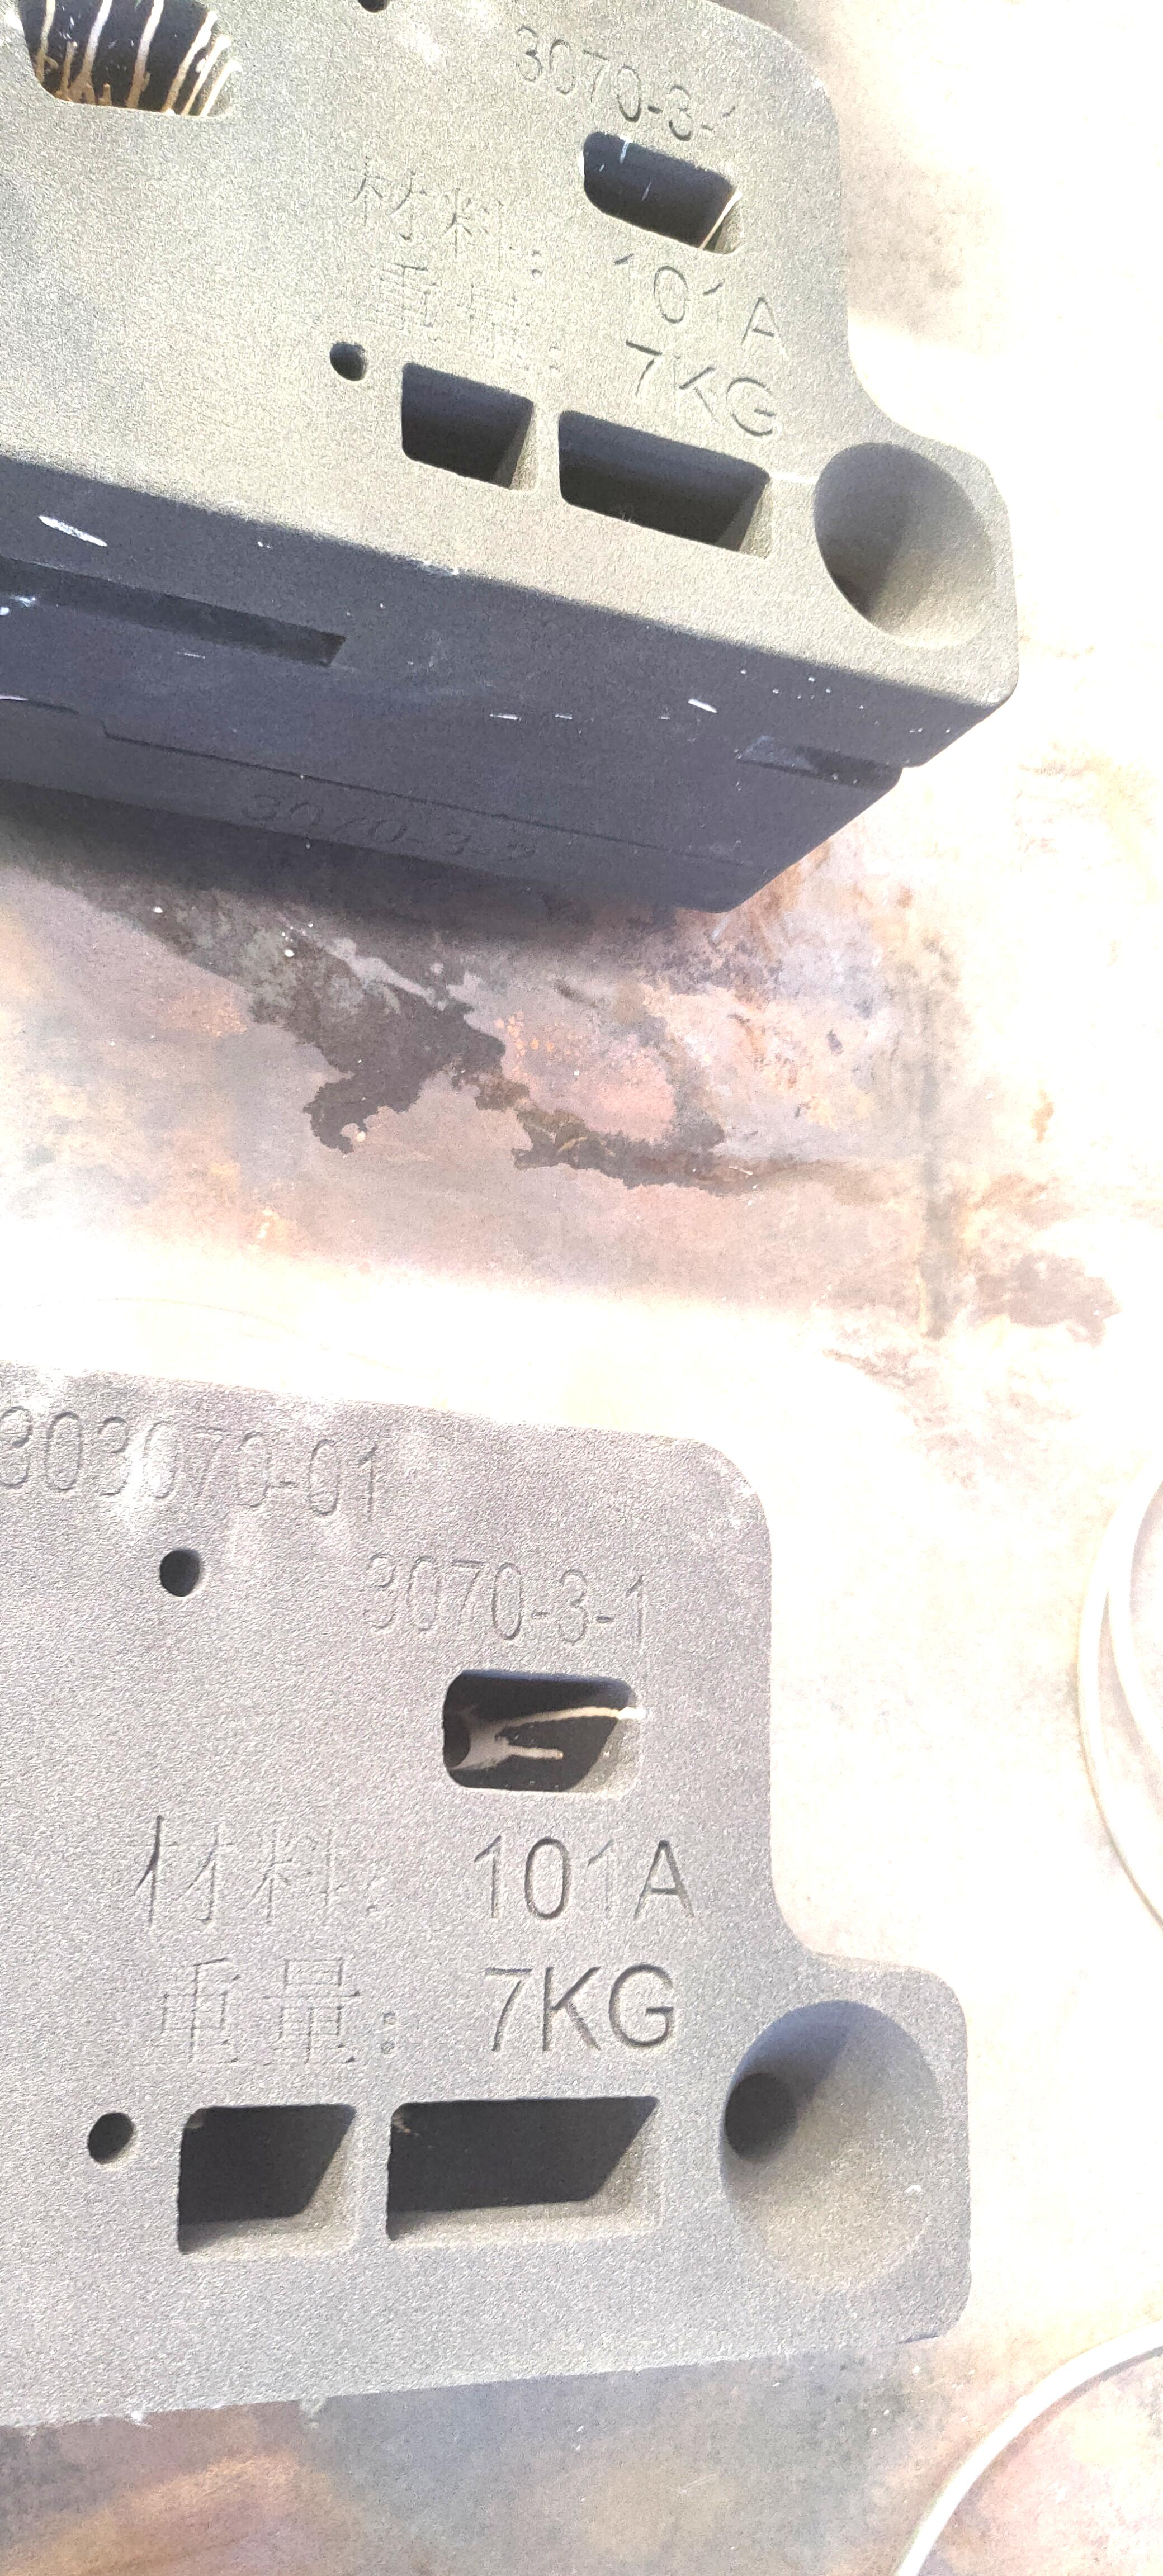pouring hole: (719, 1998, 953, 2285), (813, 440, 997, 647)
